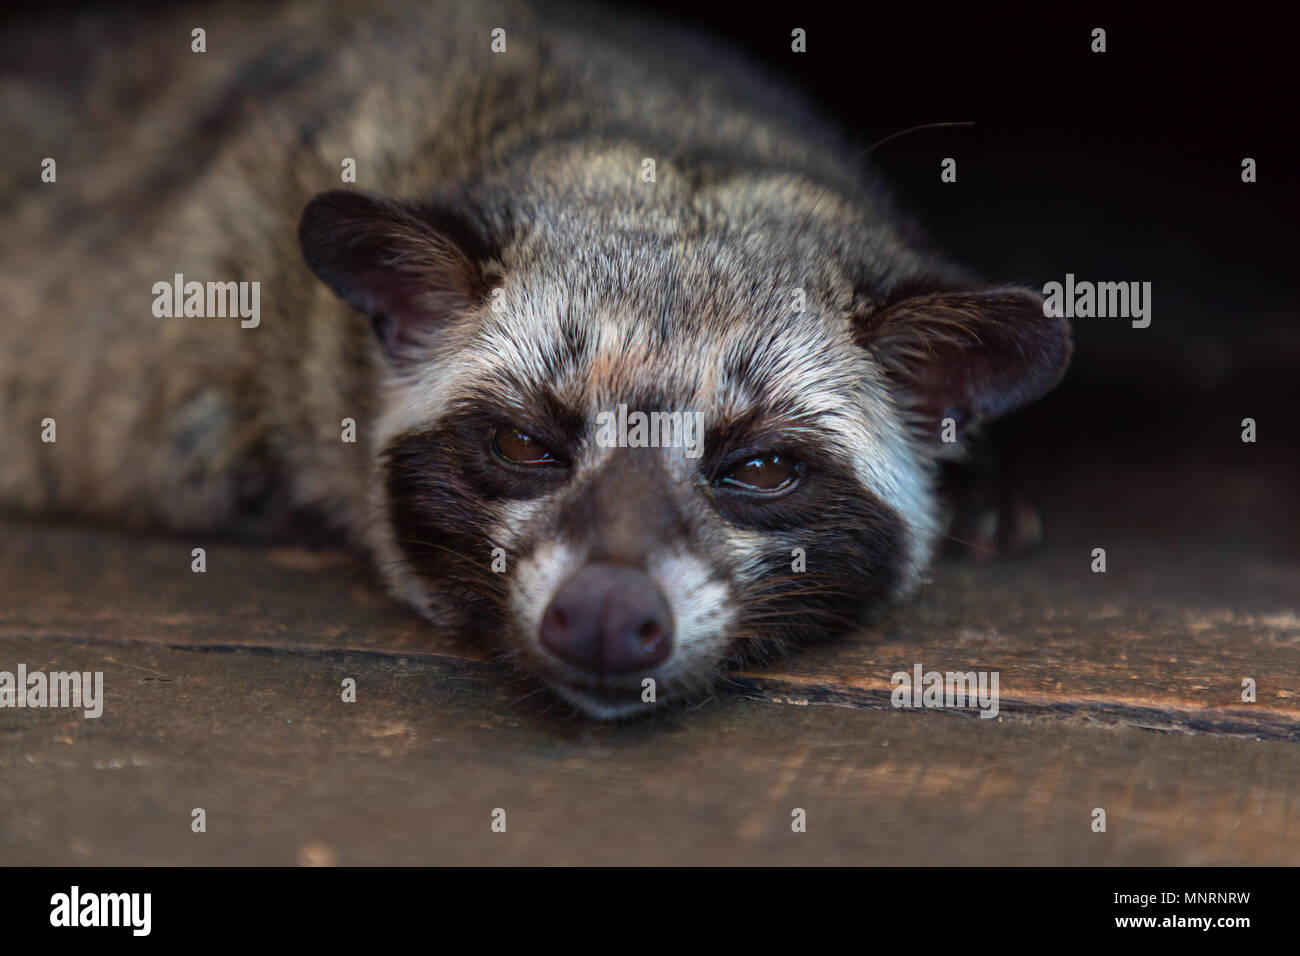Civet: (303, 89, 1013, 741)
